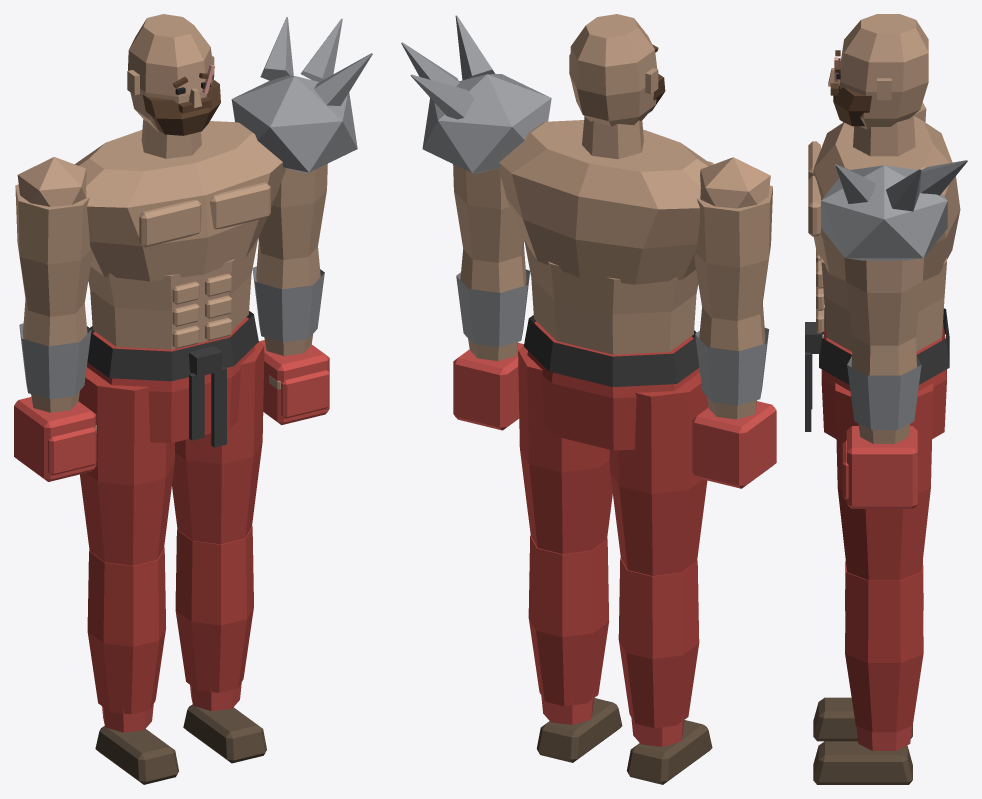
Rendered from Brakka.glb.
The picture shows the model from 3 angles, left to right: view 1: azimuth 30°, elevation 25°; view 2: azimuth 150°, elevation 25°; view 3: azimuth 270°, elevation 25°; orthographic projection. The views are drawn at different scales.
Parts seen in each view (by area): view 1: ChestMesh, ThighMesh_R, ShinMesh_R, ShinMesh_L, ThighMesh_L, SpineMesh, Pauldron, UpperArmMesh_R, HeadMesh, HipsMesh, UpperArmMesh_L, BeltMesh (+23 smaller); view 2: ChestMesh, ThighMesh_R, SpineMesh, ShinMesh_L, ShinMesh_R, ThighMesh_L, UpperArmMesh_R, Pauldron, HeadMesh, HipsMesh, Fist_R, BeltMesh (+15 smaller); view 3: ShinMesh_L, ThighMesh_L, Pauldron, HeadMesh, ChestMesh, UpperArmMesh_L, Fist_L, FootMesh_L, Bracer_L, SpineMesh, ForeArmMesh_L, HipsMesh (+14 smaller).
Part boxes in pixels (x1,y1,x2,y2): ChestMesh: [75, 121, 286, 281]; ThighMesh_R: [78, 367, 174, 565]; ShinMesh_R: [87, 547, 166, 714]; ShinMesh_L: [175, 526, 253, 692]; ThighMesh_L: [172, 341, 264, 544]; SpineMesh: [88, 237, 258, 349]; Pauldron: [231, 75, 357, 172]; UpperArmMesh_R: [15, 184, 92, 316]; HeadMesh: [128, 14, 213, 132]; HipsMesh: [87, 317, 255, 443]; UpperArmMesh_L: [258, 163, 327, 259]; BeltMesh: [87, 311, 258, 381]; ChestMesh: [498, 120, 712, 284]; ThighMesh_R: [609, 373, 708, 575]; SpineMesh: [524, 239, 698, 354]; ShinMesh_L: [528, 535, 609, 706]; ShinMesh_R: [618, 557, 699, 728]; ThighMesh_L: [518, 346, 612, 554]; UpperArmMesh_R: [694, 185, 772, 320]; Pauldron: [422, 74, 551, 173]; HeadMesh: [569, 14, 657, 126]; HipsMesh: [527, 321, 699, 450]; Fist_R: [692, 401, 776, 488]; BeltMesh: [523, 315, 699, 386]; ShinMesh_L: [845, 564, 923, 732]; ThighMesh_L: [835, 383, 933, 580]; Pauldron: [821, 165, 947, 260]; HeadMesh: [839, 14, 928, 129]; ChestMesh: [812, 116, 960, 280]; UpperArmMesh_L: [844, 257, 924, 345]; Fist_L: [846, 426, 917, 508]; FootMesh_L: [813, 741, 912, 784]; Bracer_L: [847, 356, 921, 429]; SpineMesh: [821, 258, 946, 351]; ForeArmMesh_L: [851, 337, 916, 443]; HipsMesh: [821, 322, 946, 439].
Size of the model in its own units: 0.9457 by 1.9 by 0.3837.
